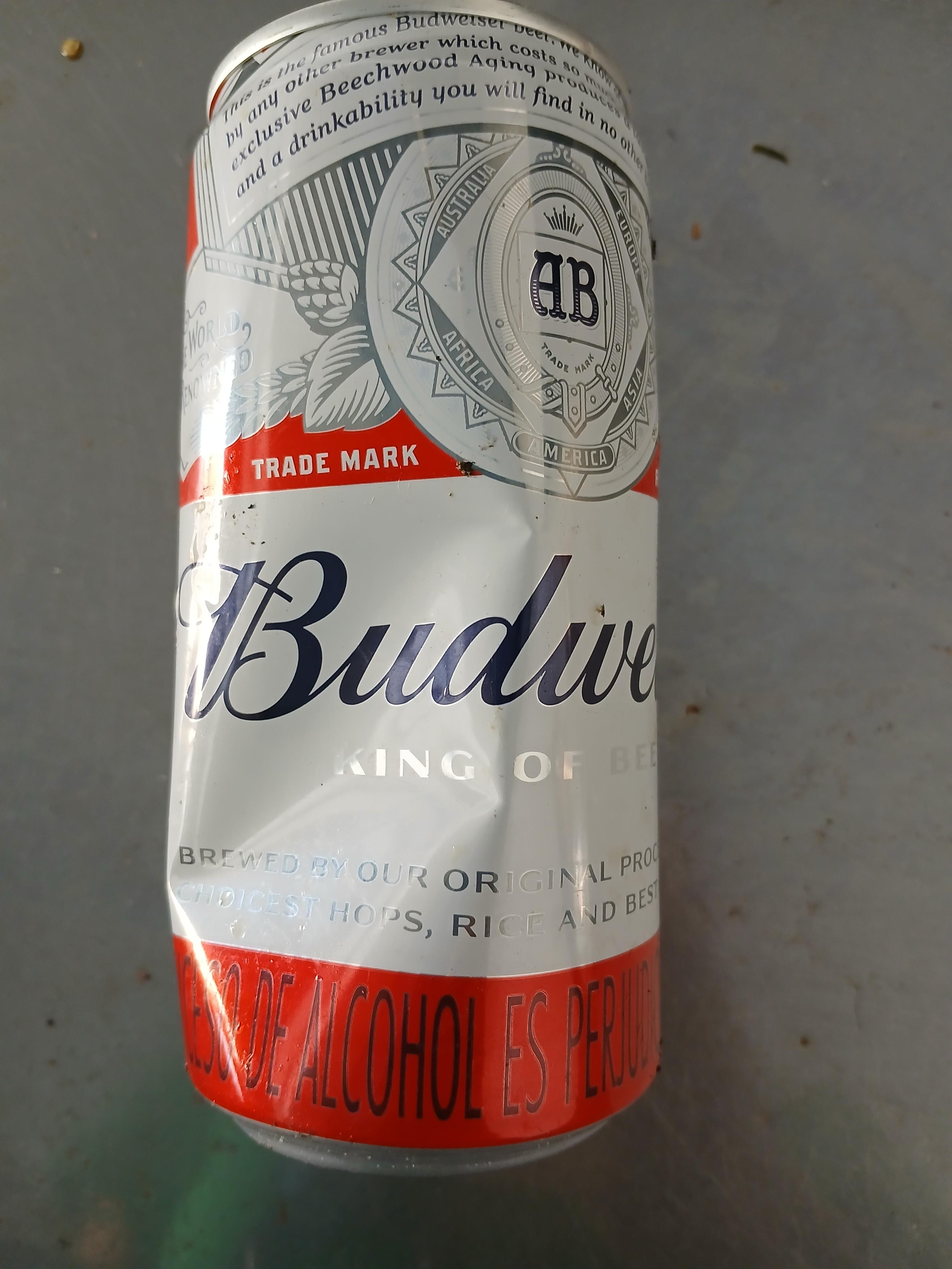Metal: (165, 0, 659, 1175)
